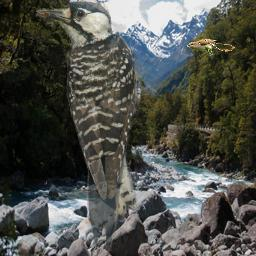Cuckoo: (186, 39, 235, 56)
Woodpecker: (36, 0, 162, 255)
